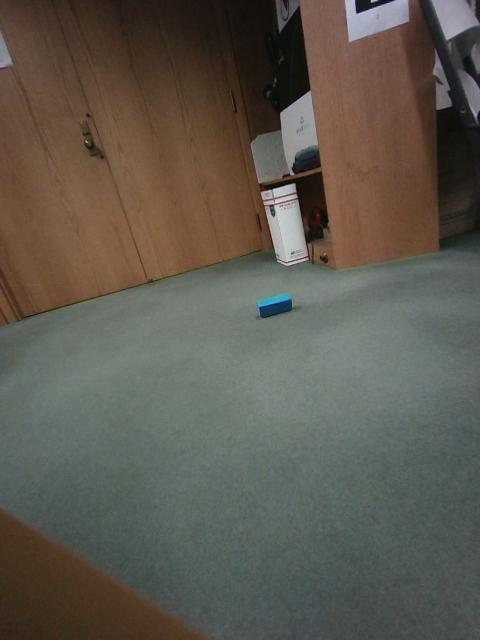block: (245, 297, 283, 341)
